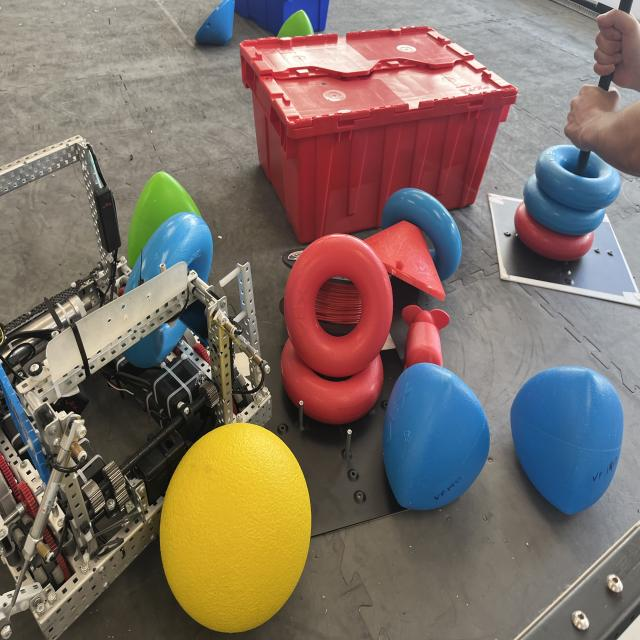Blue-Ring: (381, 188, 461, 280), (125, 212, 212, 293), (535, 145, 620, 212), (524, 173, 605, 235)
Red-Ring: (285, 235, 392, 377), (281, 338, 384, 423), (514, 202, 594, 262)
